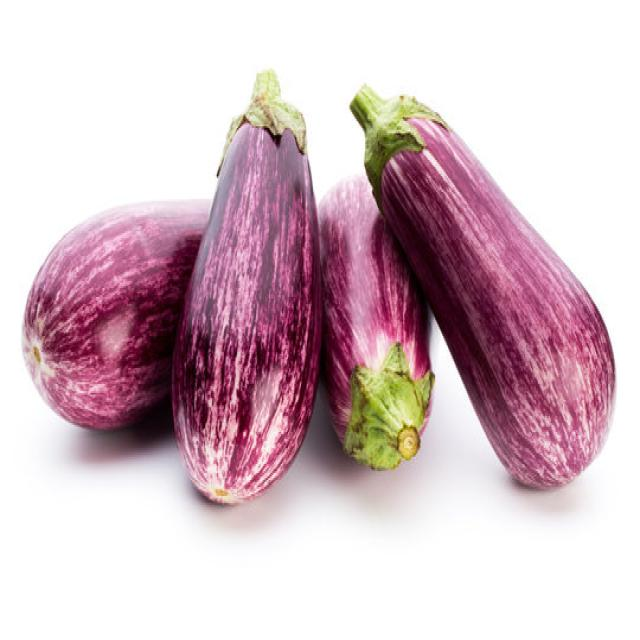Eggplant: (348, 82, 616, 489), (170, 67, 322, 505), (20, 196, 212, 430), (316, 171, 435, 471)
